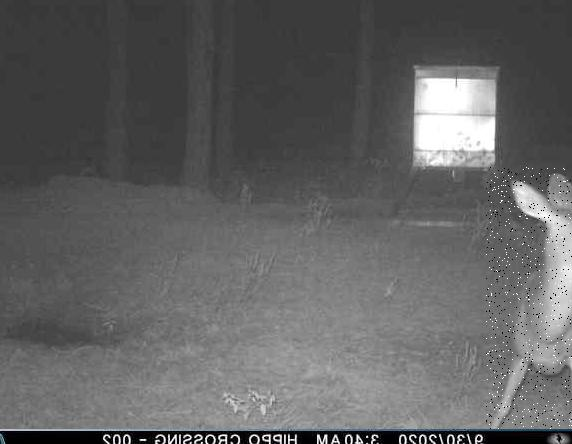Deer: (486, 167, 572, 429)
